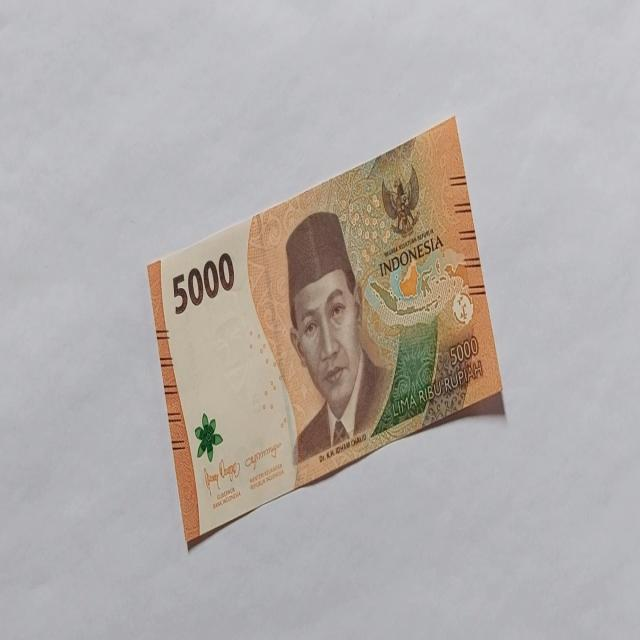lima ribu rupiah: (144, 116, 506, 552), (284, 209, 392, 466)
